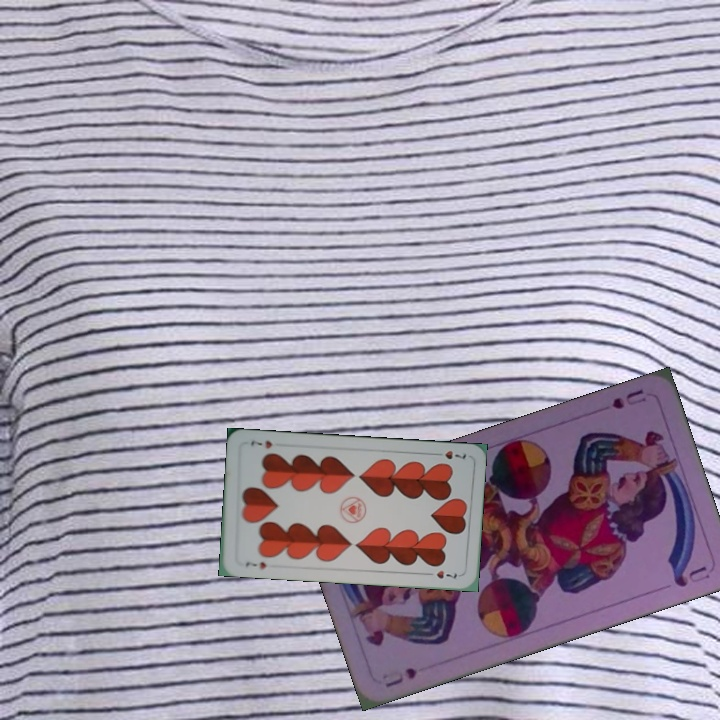H7: (430, 447, 468, 462), (242, 558, 269, 572)
SU: (607, 385, 649, 412), (381, 663, 419, 691)
